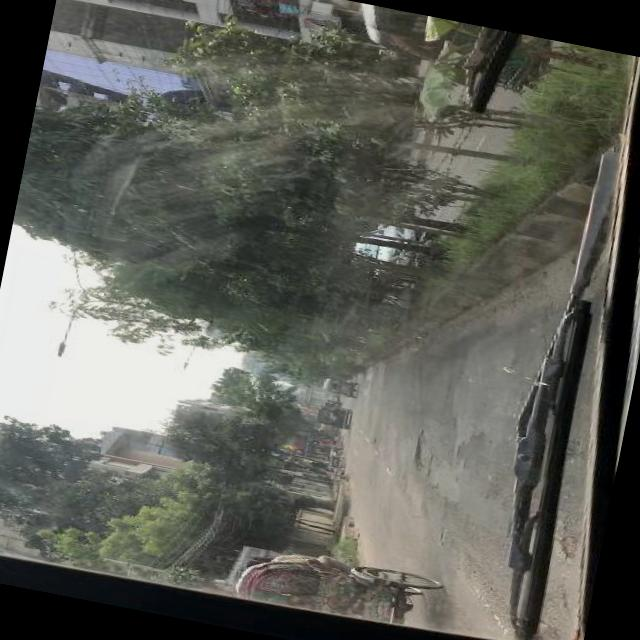car: (348, 216, 432, 280)
motorcycle: (343, 2, 552, 101), (236, 542, 443, 632), (322, 377, 355, 398)
truck: (314, 406, 348, 428)
